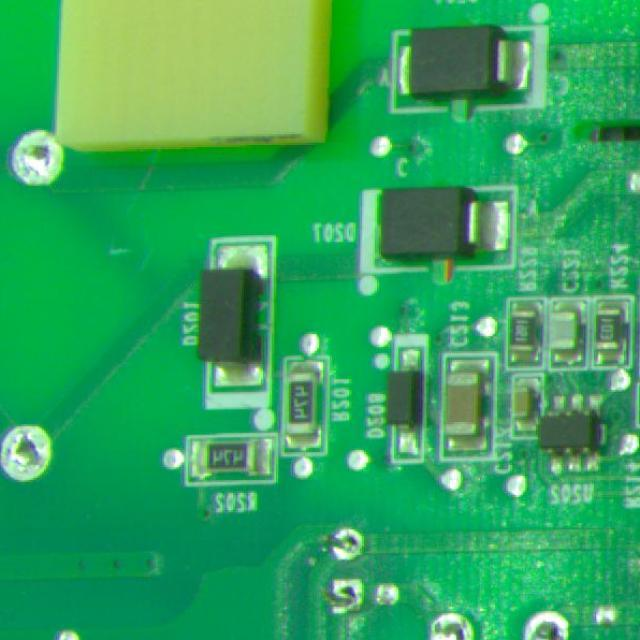oppostie_direction: (10, 130, 64, 186), (0, 425, 51, 482), (524, 611, 569, 640), (431, 614, 474, 640)
